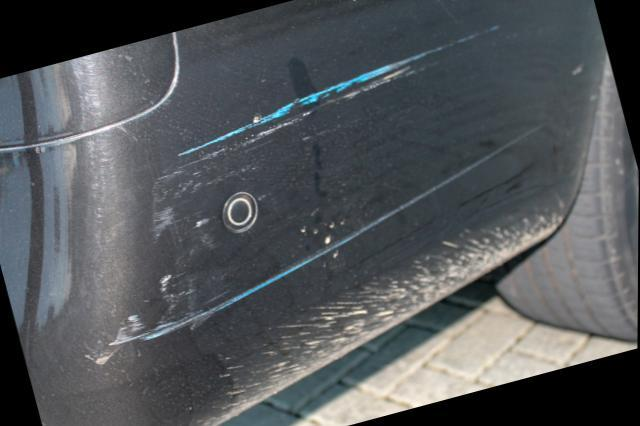rub: (104, 21, 541, 348)
